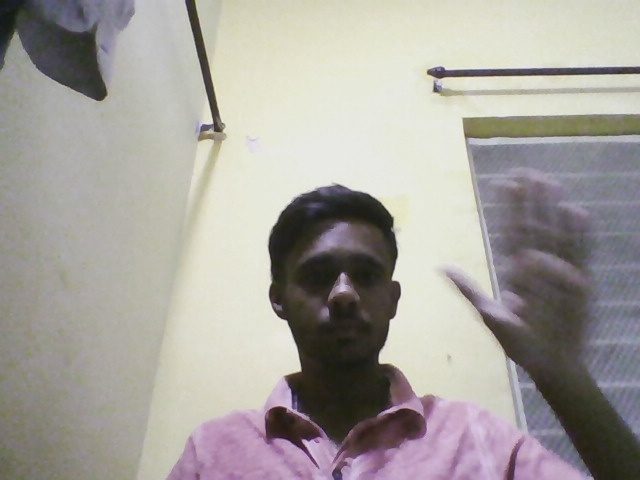hello: (434, 150, 621, 386)
